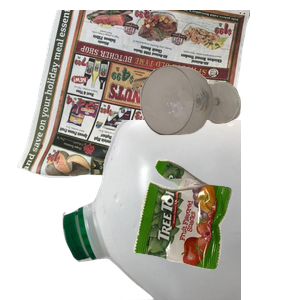glass: (138, 63, 300, 191)
paper: (14, 10, 254, 190)
plastic: (60, 120, 300, 300)
trash: (131, 156, 300, 300)
